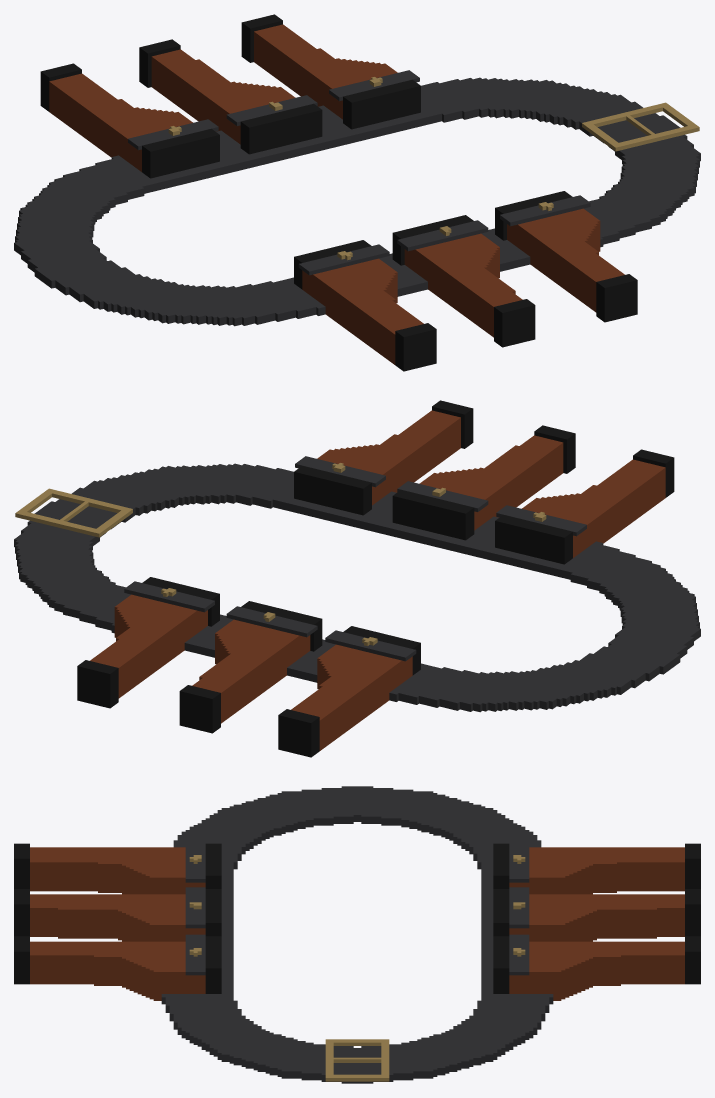
File: baldric_holster.glb
3 renders of one model, top to bottom at view 1: azimuth 30°, elevation 25°; view 2: azimuth 150°, elevation 25°; view 3: azimuth 270°, elevation 25°, orthographic. The views are drawn at different scales.
Visible parts, largest first — view 1: baldric_holster:compound; view 2: baldric_holster:compound; view 3: baldric_holster:compound.
Boxes of the visible parts, bbox=[...] form: baldric_holster:compound: bbox=[14, 14, 700, 371]; baldric_holster:compound: bbox=[14, 400, 700, 757]; baldric_holster:compound: bbox=[14, 786, 700, 1083].
Size of the model in its own units: 0.7 by 0.04 by 0.688.
